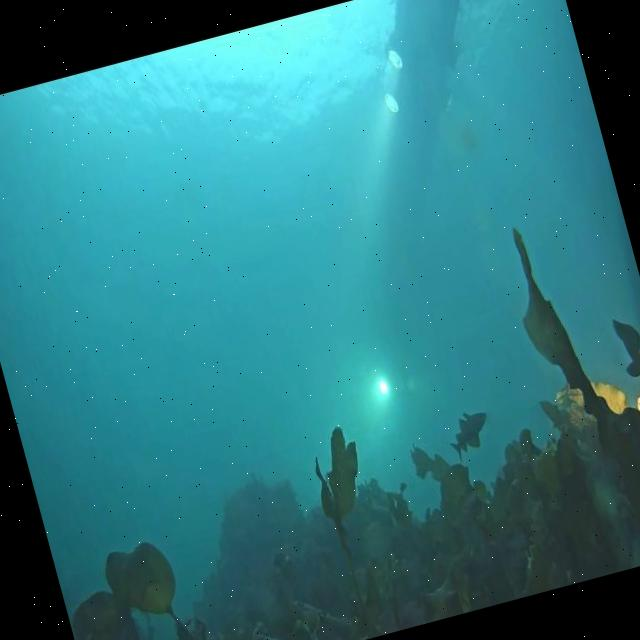fish: (442, 400, 498, 460)
